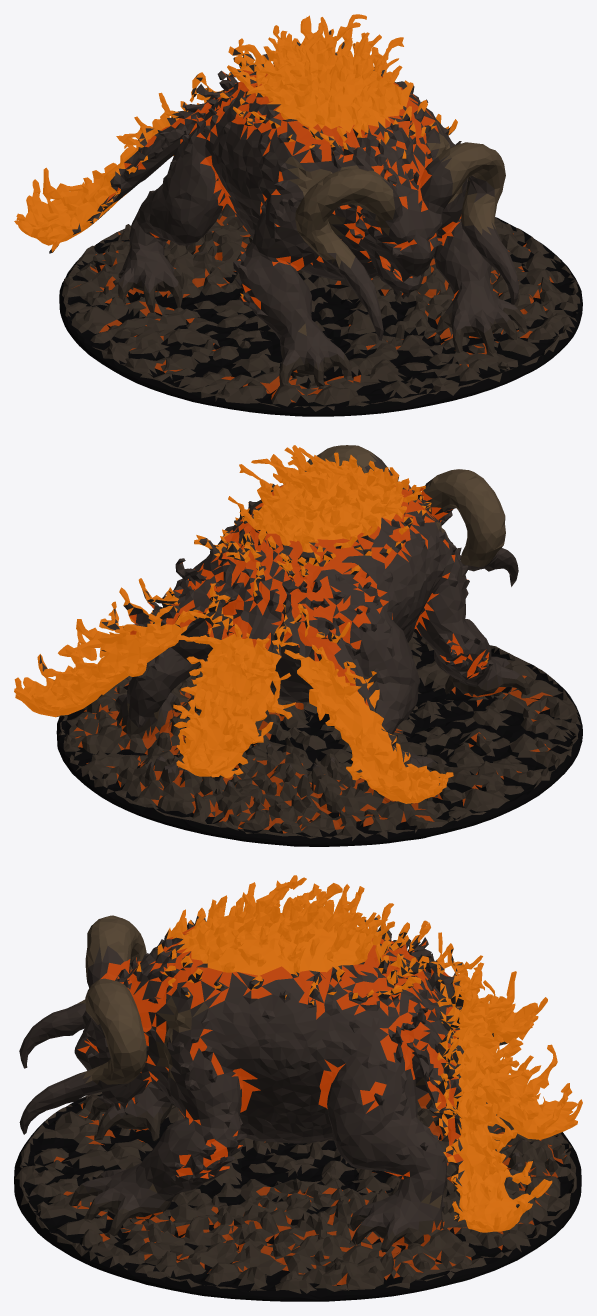
The model's file is molochos.glb.
3 views of the same model, one above another, from view 1: azimuth 30°, elevation 25°; view 2: azimuth 150°, elevation 25°; view 3: azimuth 270°, elevation 25° (orthographic). The views are drawn at different scales.
Visible parts, largest first — view 1: tmpj96md4wt.ply; view 2: tmpj96md4wt.ply; view 3: tmpj96md4wt.ply.
Boxes of the visible parts, box(x1,y1,x2,y2) form: tmpj96md4wt.ply: box(14, 14, 582, 416); tmpj96md4wt.ply: box(14, 445, 582, 846); tmpj96md4wt.ply: box(14, 875, 582, 1301).
Bounding box in the file's own units: 1.96 × 1.17 × 1.96.
